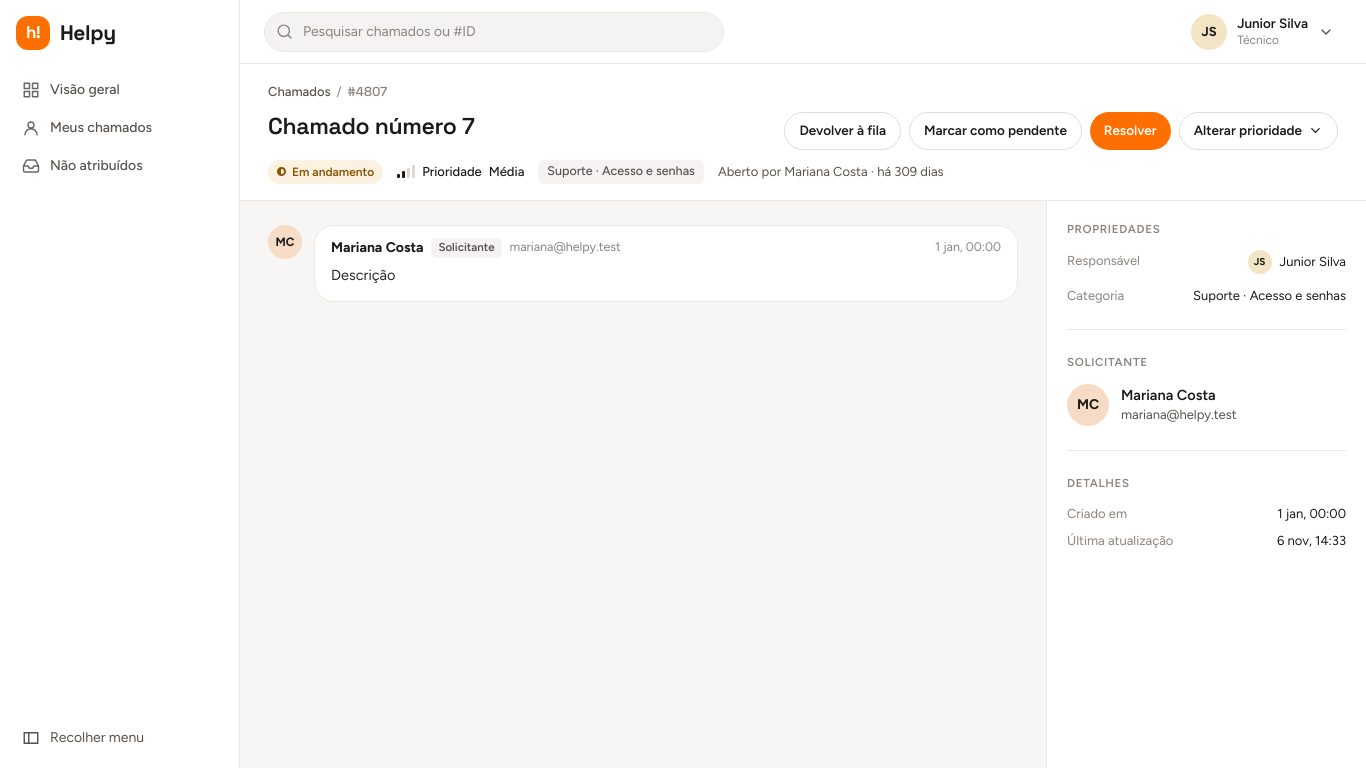
Test: ticket actions › Devolver à fila asks for confirmation, then releases and the ticket shows as OPEN, unassigned
The image size is (1366, 768).
Click the button "Devolver à fila". click: {"x": 843, "y": 130}
box: [784, 112, 901, 150]
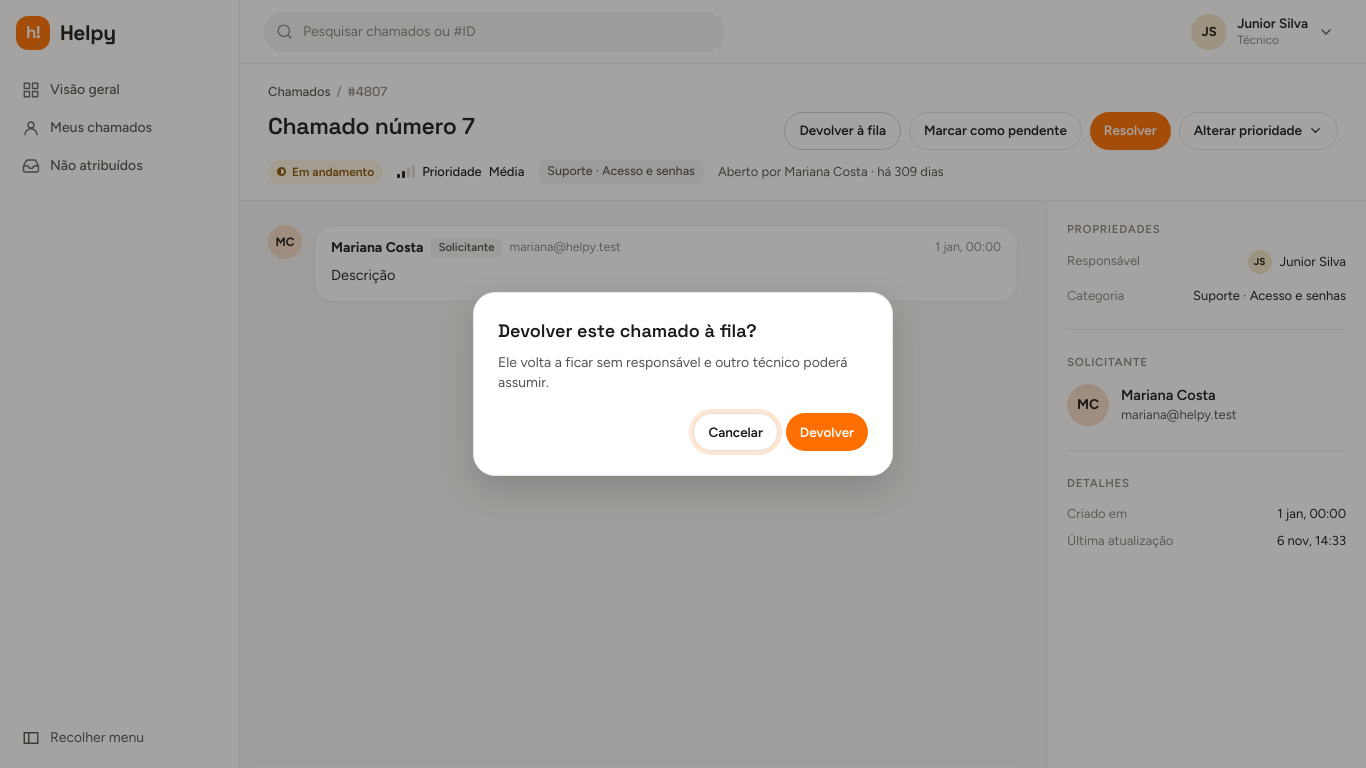
Expected: the heading "Devolver este chamado à fila?" is shown, [498, 319, 757, 342]
Click the button "Devolver". click: {"x": 827, "y": 432}
box: [786, 413, 868, 451]
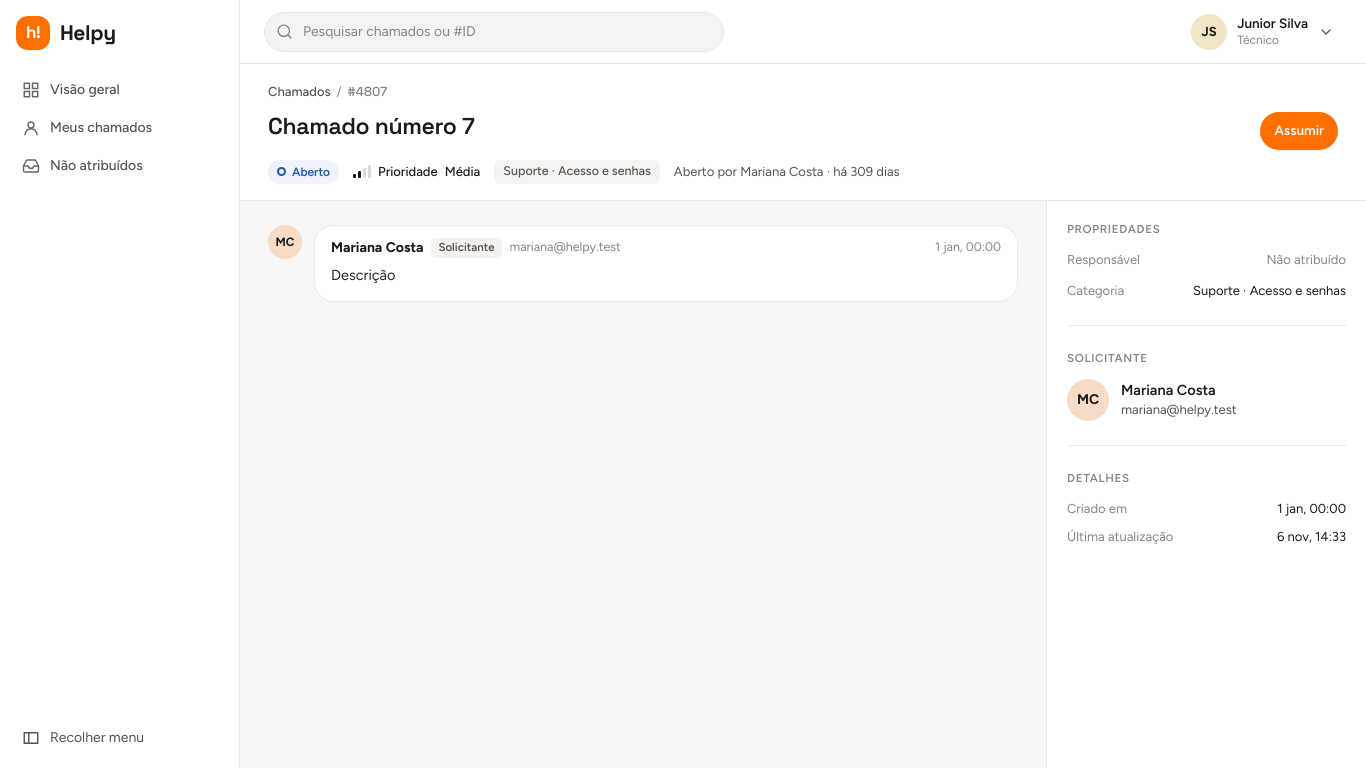
Expected: the text "Não atribuído" is shown, [1267, 252, 1346, 267]
Expected: the text "Aberto" is shown, [268, 160, 339, 184]
Expected: the dialog is gone
